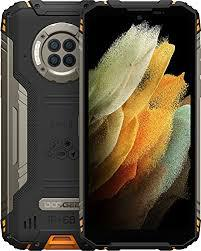Smartphone: (82, 7, 191, 250), (13, 4, 105, 251)
